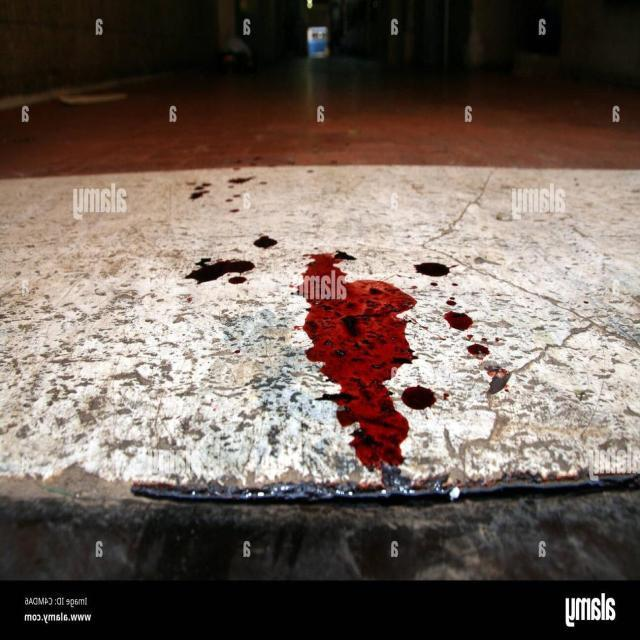flood: (292, 242, 434, 483)
